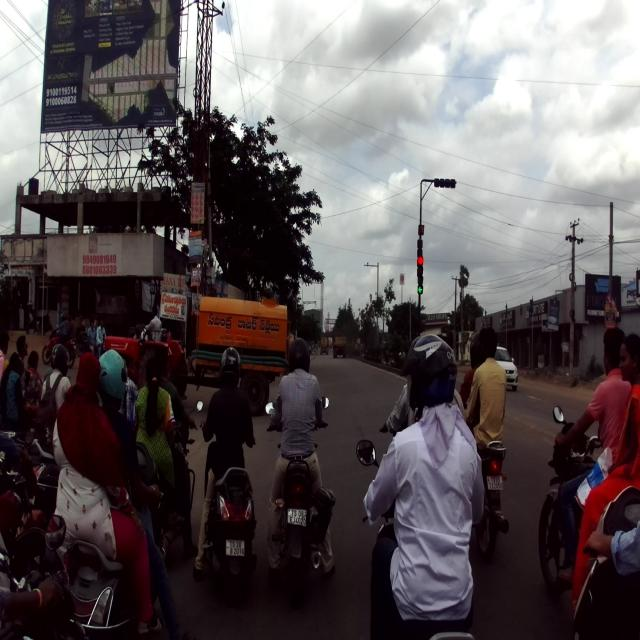motorcycle: (265, 396, 336, 607), (537, 404, 614, 596), (473, 438, 509, 561)
scooter: (59, 523, 164, 640), (199, 422, 257, 603)
